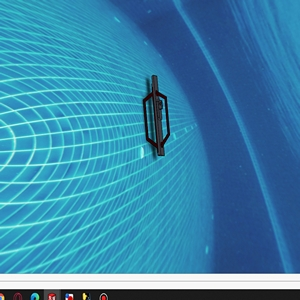submarine: (137, 76, 173, 155)
